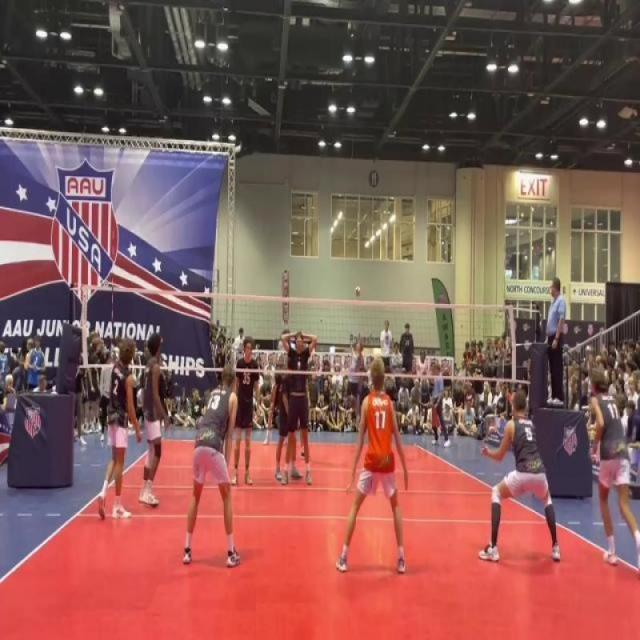volleyball: (353, 284, 362, 300)
